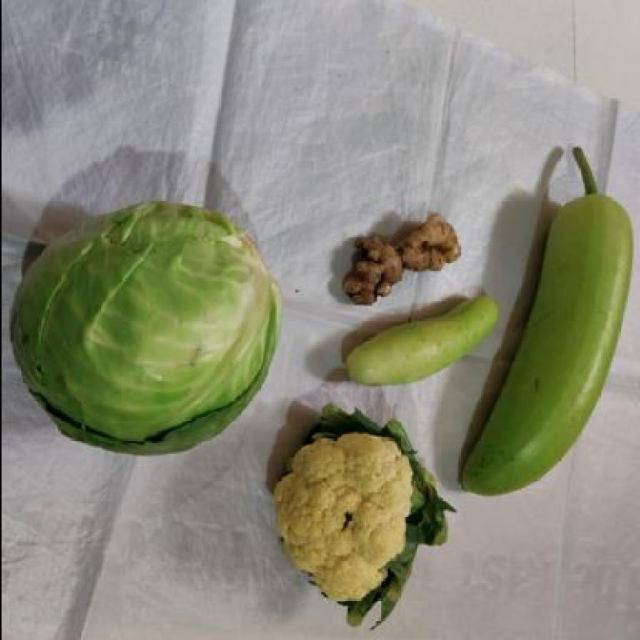Cabbage: (8, 207, 276, 456)
Calabash: (514, 152, 628, 497)
Cauliflower: (274, 416, 443, 612)
Ginger: (337, 217, 457, 300)
cucumber: (337, 302, 497, 388)
